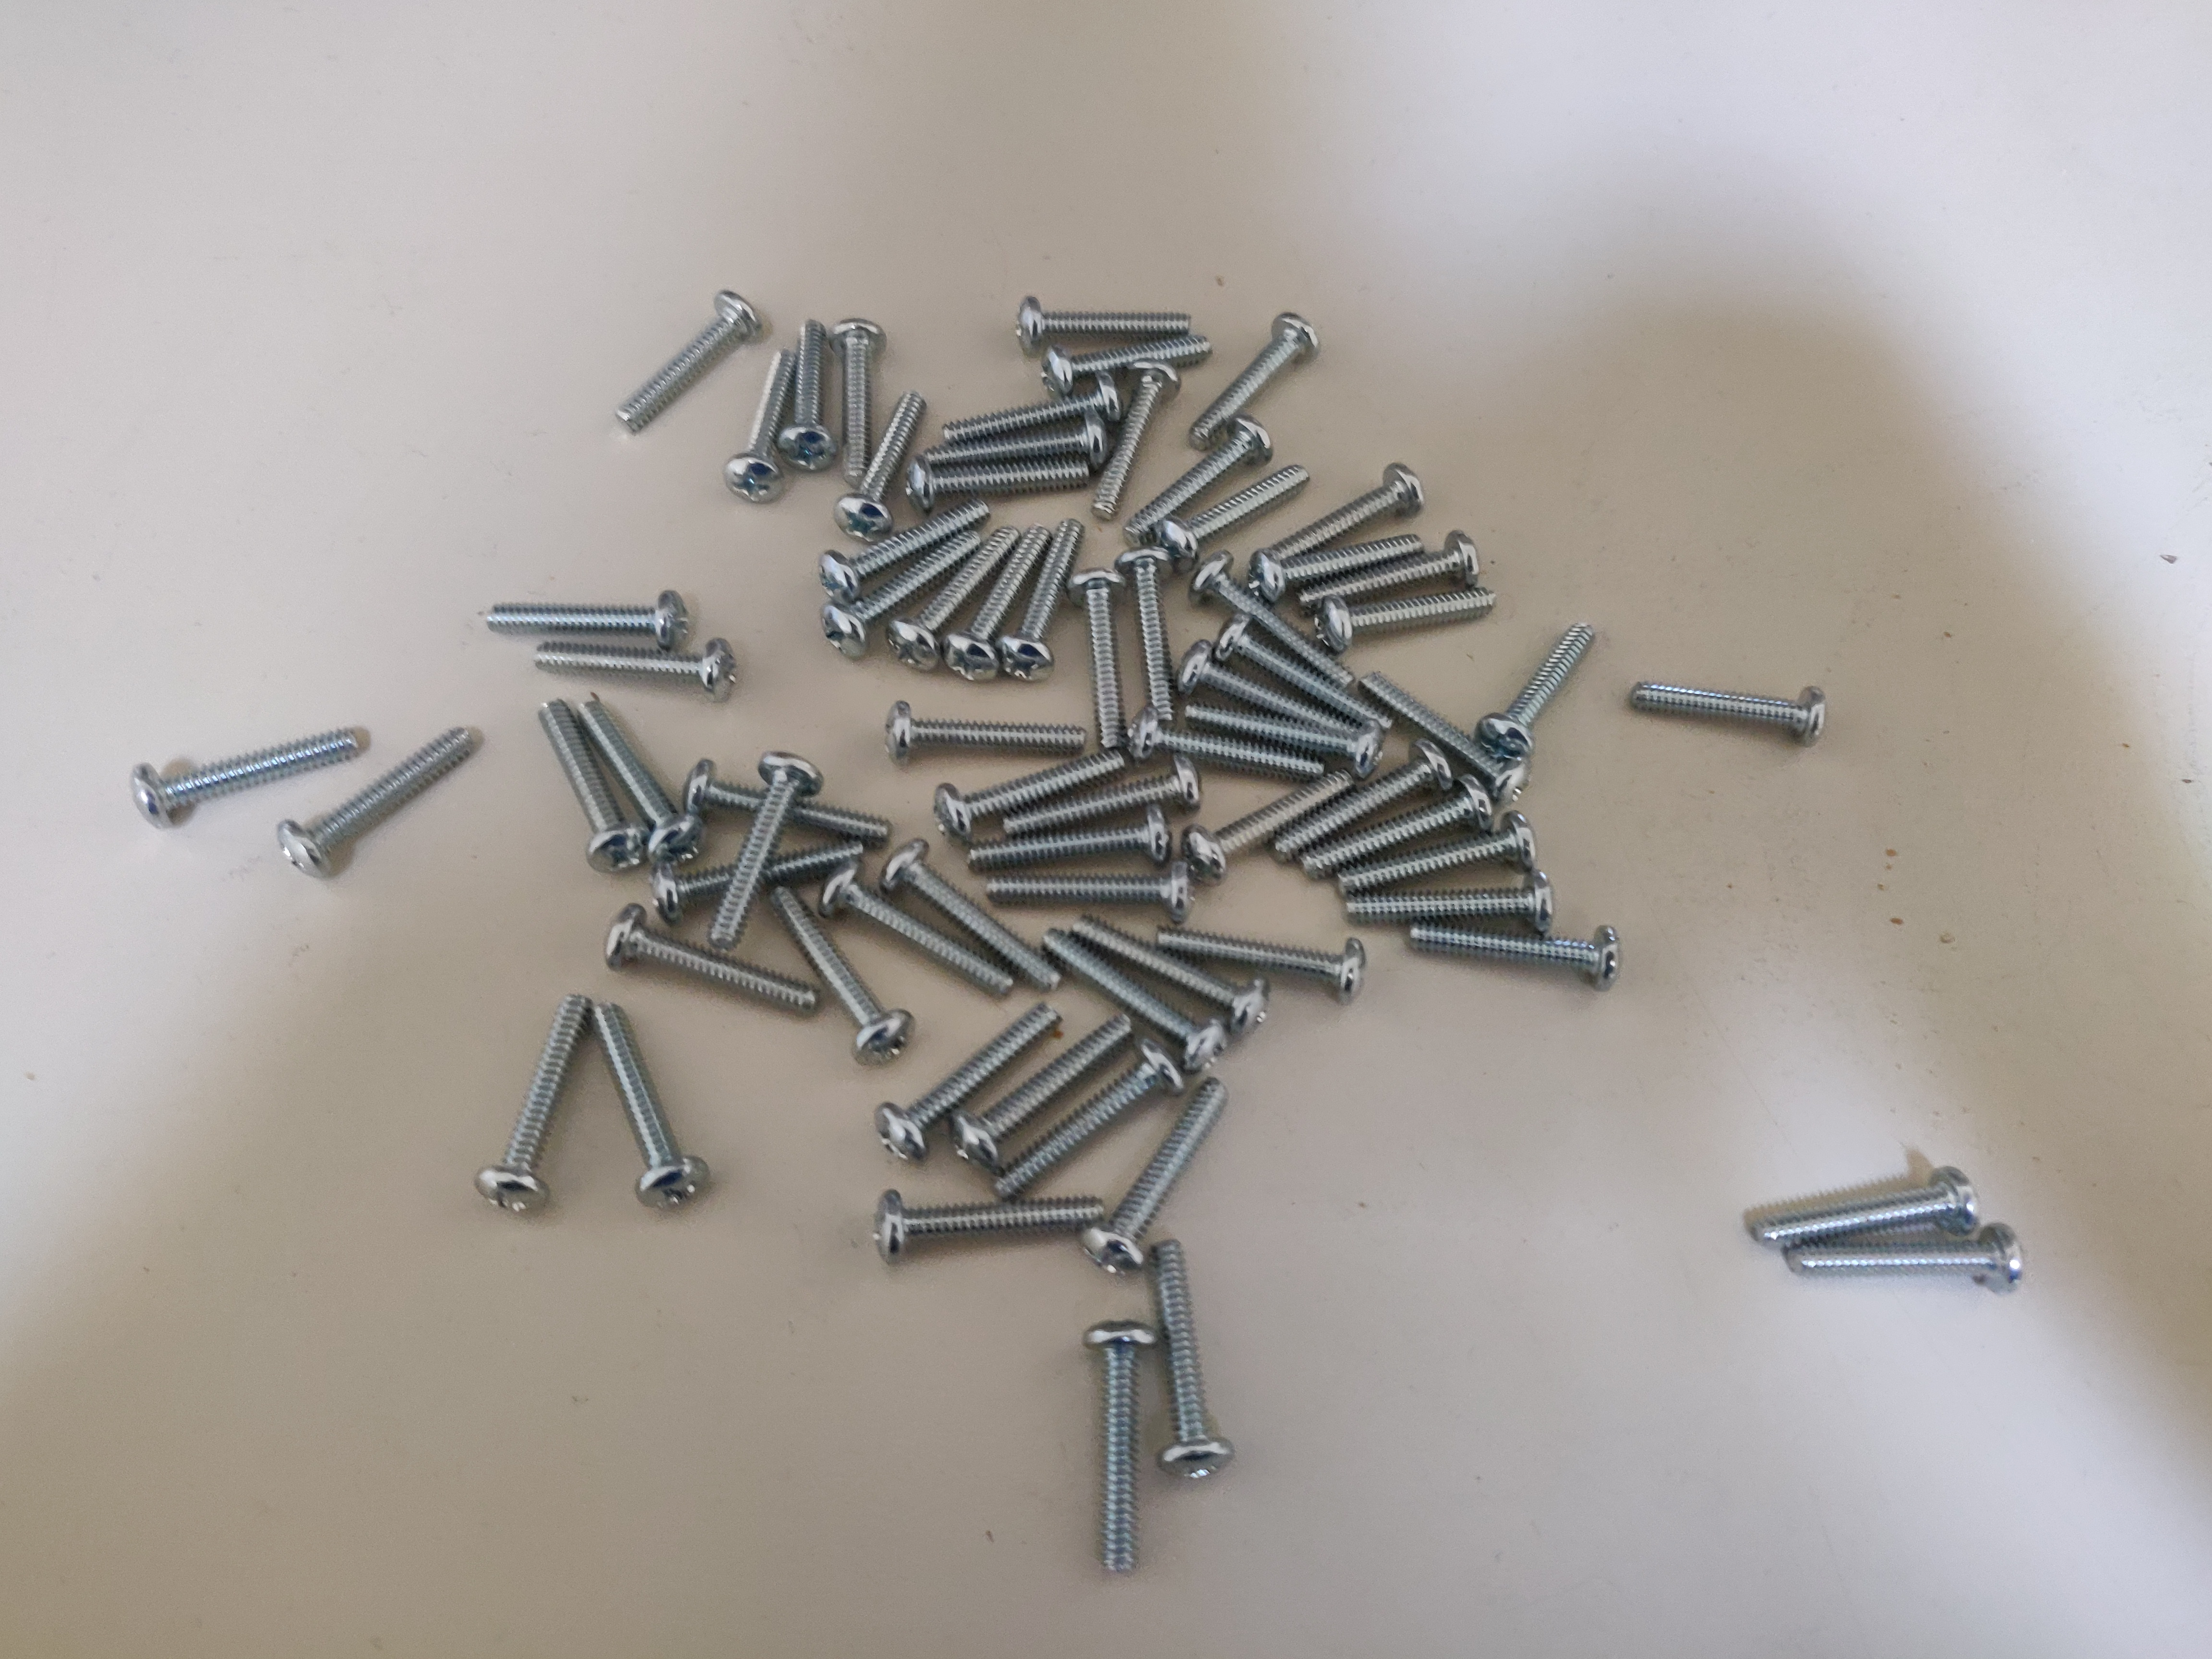longscrew: (284, 723, 479, 889), (745, 884, 906, 1061), (1008, 1047, 1186, 1206), (829, 859, 1008, 1016), (874, 1004, 1052, 1161), (958, 1016, 1134, 1173), (1101, 1077, 1247, 1265), (883, 824, 1055, 981), (477, 978, 585, 1223), (1038, 920, 1223, 1063), (611, 901, 820, 1025), (139, 721, 362, 831), (1069, 908, 1268, 1028), (575, 999, 688, 1208), (711, 746, 822, 950), (1174, 640, 1379, 741), (606, 298, 761, 430), (1275, 746, 1460, 856), (874, 1187, 1101, 1276), (1308, 770, 1491, 880), (1076, 1321, 1153, 1577), (1153, 1244, 1230, 1500), (528, 702, 644, 868), (578, 687, 695, 852), (1221, 620, 1390, 732), (1754, 1173, 1979, 1256), (1801, 1227, 2026, 1310), (1204, 551, 1353, 676), (1367, 688, 1536, 798), (1414, 904, 1618, 995), (681, 756, 892, 843), (829, 535, 986, 652), (895, 532, 1028, 664), (1184, 310, 1322, 436), (646, 838, 874, 913), (934, 751, 1150, 828), (951, 525, 1054, 681), (1482, 622, 1599, 758), (1193, 772, 1346, 875), (1165, 918, 1366, 995), (822, 505, 991, 596), (996, 760, 1212, 829), (1113, 542, 1191, 732), (1350, 857, 1562, 927), (1259, 469, 1413, 565), (1130, 418, 1268, 525), (1071, 568, 1148, 758), (1294, 532, 1486, 605), (1317, 577, 1508, 650), (1096, 352, 1177, 521), (838, 389, 932, 535), (1186, 697, 1388, 763), (1125, 721, 1327, 788), (1350, 812, 1534, 884), (484, 591, 693, 652), (1613, 680, 1822, 741), (881, 704, 1089, 765), (1169, 465, 1318, 549), (536, 643, 744, 702), (1014, 521, 1085, 687), (1261, 526, 1435, 589), (937, 373, 1122, 430), (1015, 293, 1198, 350), (1040, 336, 1223, 394), (928, 422, 1111, 479), (906, 453, 1089, 511), (989, 861, 1190, 913), (968, 819, 1169, 871), (822, 315, 880, 479), (777, 298, 834, 462), (735, 349, 792, 512)
